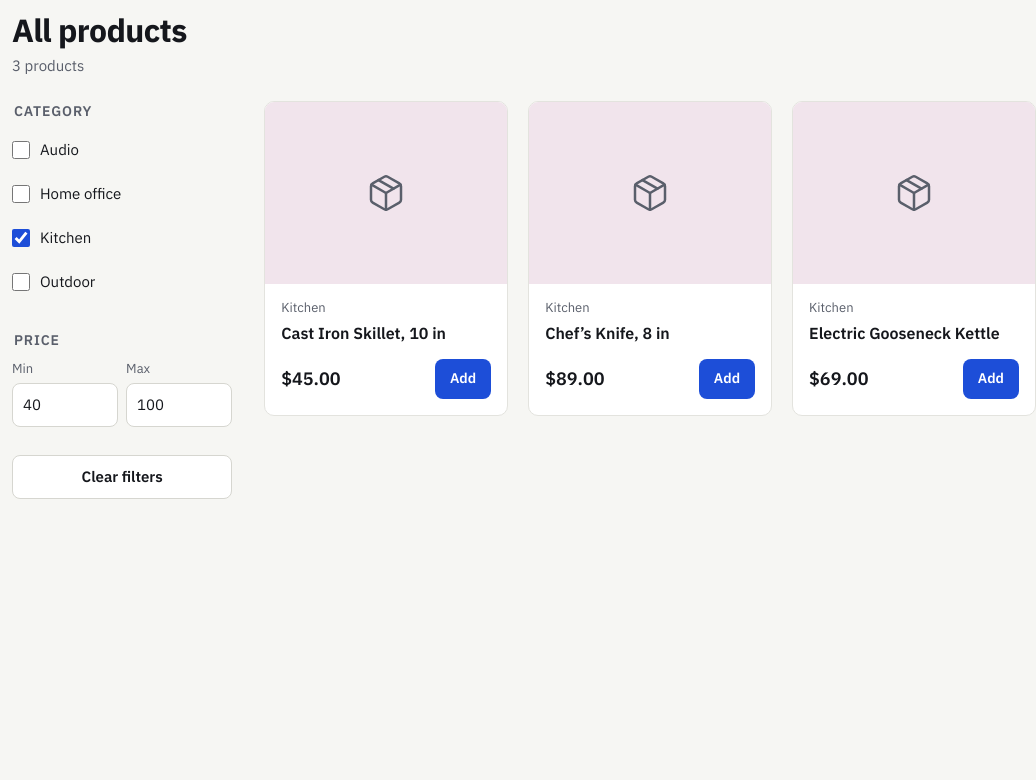
Test: CatalogPage › clears every filter, including the price range
Expected: the text "3 products" is shown, top-left (12, 56), bottom-right (84, 75)
Click the button "Clear filters": (122, 477) top-left (12, 455), bottom-right (232, 499)
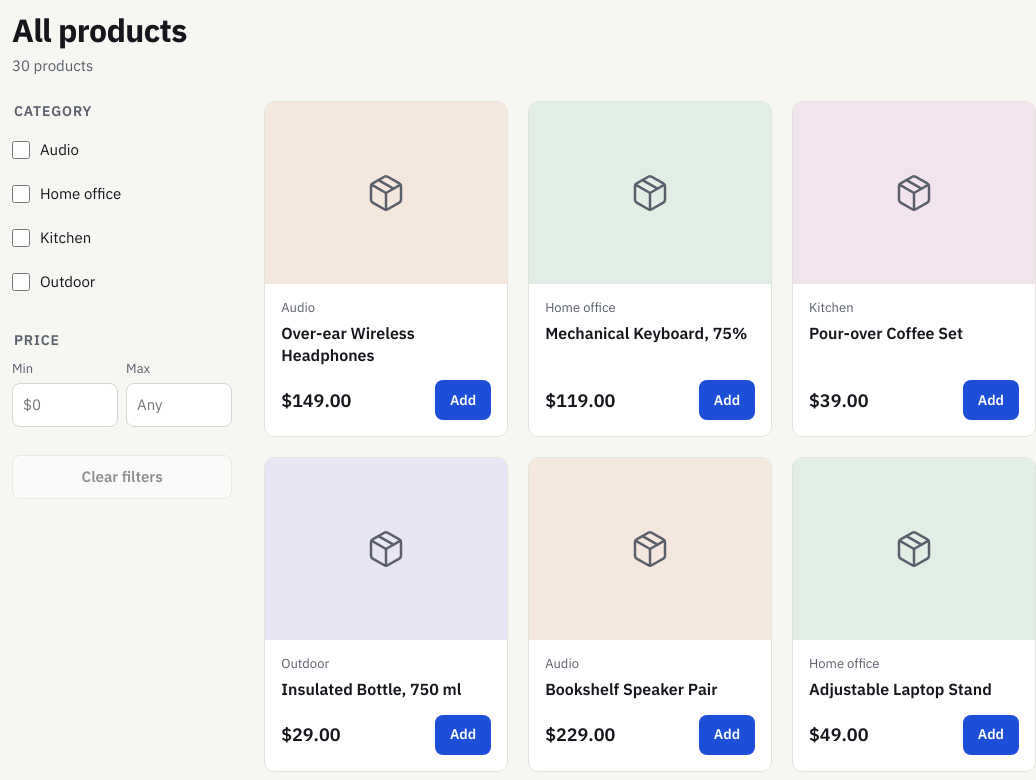
Now the text "30 products" is shown, box top-left (12, 56), bottom-right (93, 75)
Now the number field labelled "Min" is not empty, box top-left (12, 383), bottom-right (118, 427)
